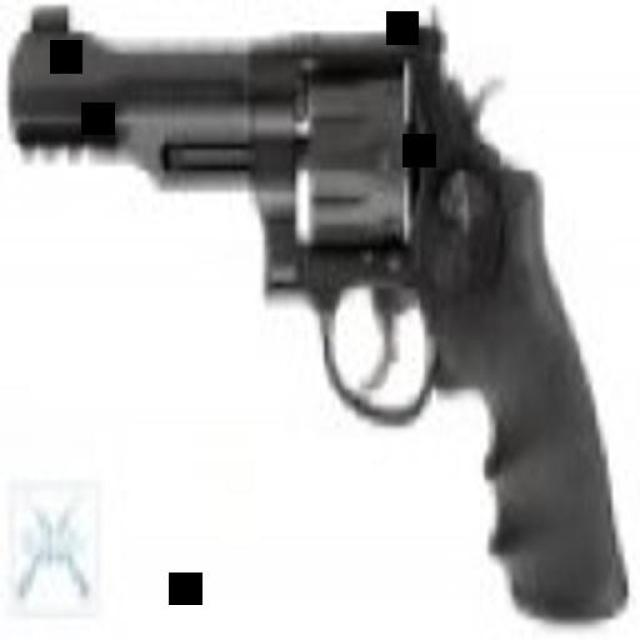gun: (6, 4, 626, 611)
